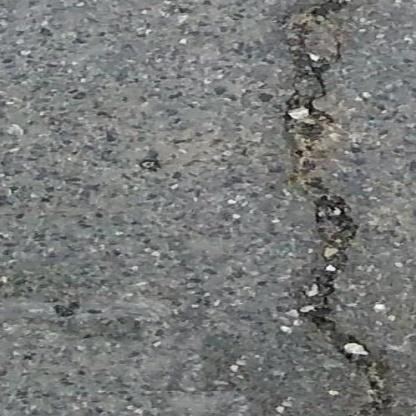Cracks: (279, 0, 389, 416)
